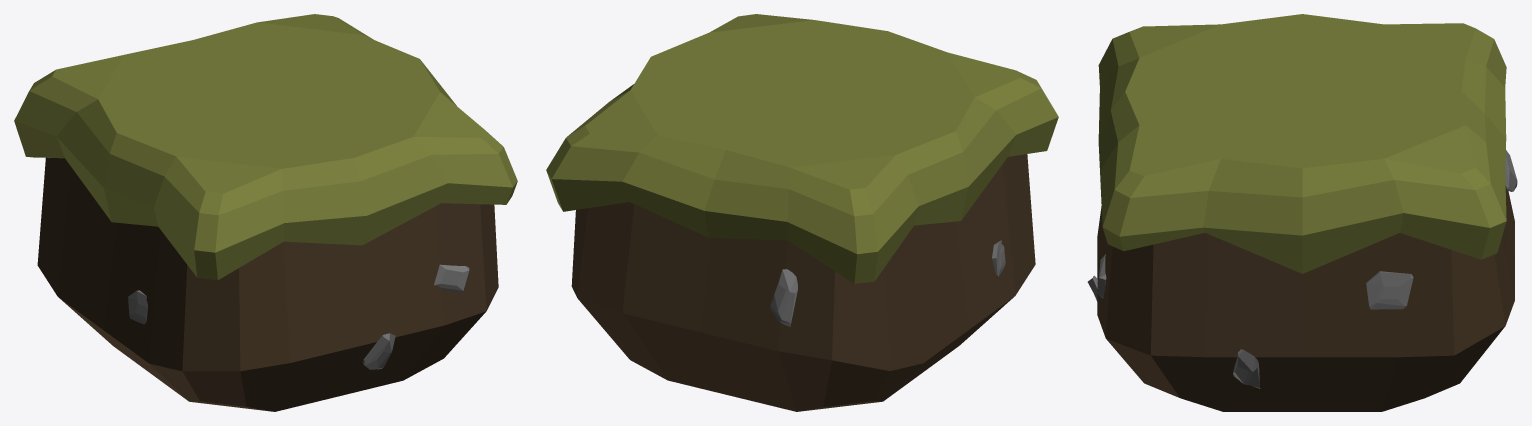
The model's file is grass.fbx.
3 renders of one model, left to right at view 1: azimuth 30°, elevation 25°; view 2: azimuth 150°, elevation 25°; view 3: azimuth 270°, elevation 25°, orthographic. The views are drawn at different scales.
Parts seen in each view (by area): view 1: Cube; view 2: Cube; view 3: Cube.
Part boxes in pixels (bbox=[...]): Cube: bbox=[14, 14, 517, 411]; Cube: bbox=[546, 14, 1058, 411]; Cube: bbox=[1087, 14, 1517, 411].
Bounding box in the file's own units: 1028 × 737 × 1104.
